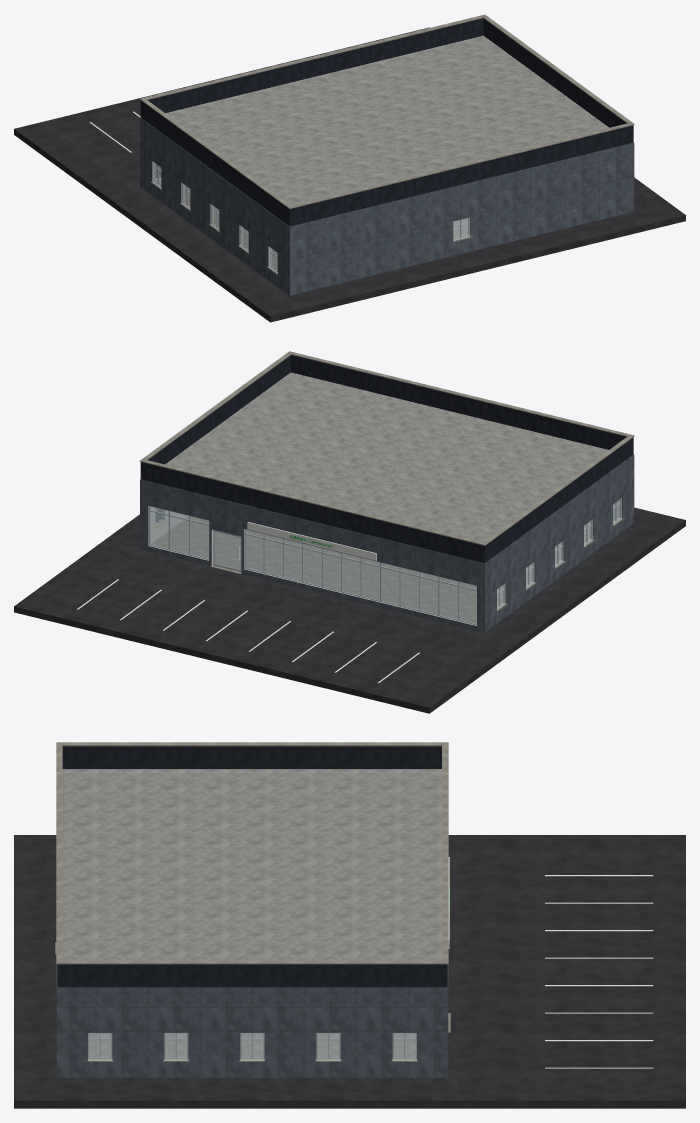
Rendered from b_supermarket.gltf.
3 views of the same model, one above another, from view 1: azimuth 30°, elevation 25°; view 2: azimuth 150°, elevation 25°; view 3: azimuth 270°, elevation 25° (orthographic). The views are drawn at different scales.
Parts seen in each view (by area): view 1: S_supermarket; view 2: S_supermarket, D_supermarket_F1_S2_Door0; view 3: S_supermarket.
Part boxes in pixels (x1,y1,x2,y2): S_supermarket: [14, 14, 685, 322]; S_supermarket: [14, 351, 685, 713]; D_supermarket_F1_S2_Door0: [213, 530, 240, 571]; S_supermarket: [14, 742, 685, 1108].
Size of the model in its own units: 29 by 6.26 by 31.
Materials: 14 (8 with a texture image).
